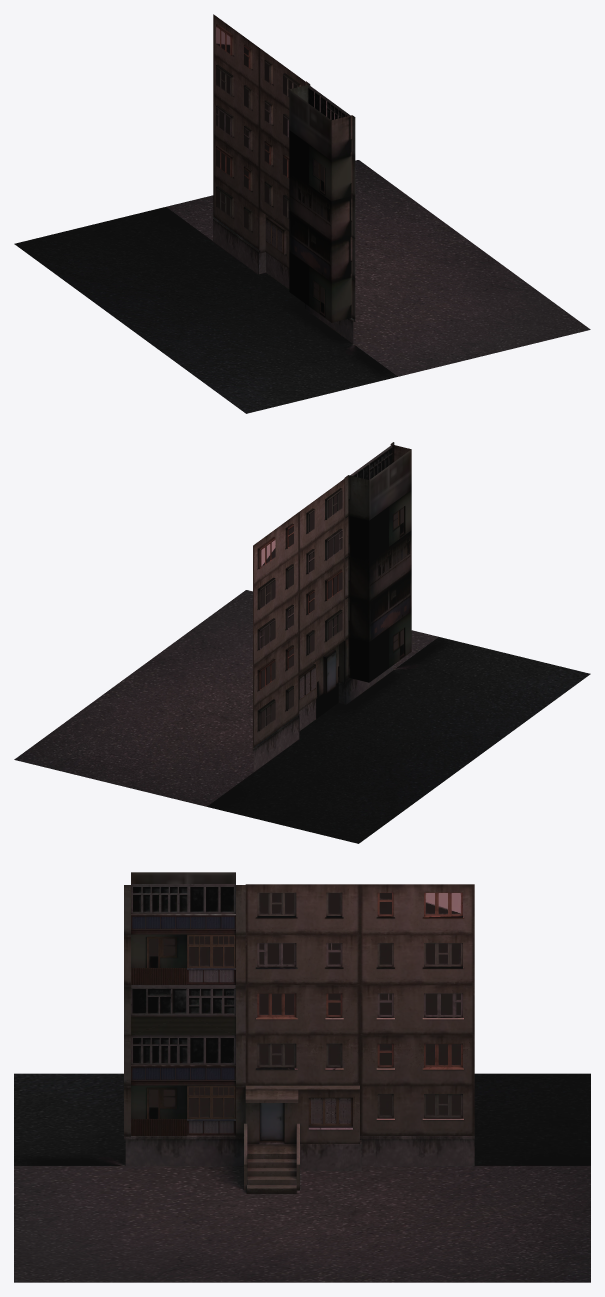
File: panelkaglb-optimized.glb
The picture shows the model from 3 angles, top to bottom: view 1: azimuth 30°, elevation 25°; view 2: azimuth 150°, elevation 25°; view 3: azimuth 270°, elevation 25°; orthographic projection. The views are drawn at different scales.
Visible parts, largest first — view 1: Plane, Box018_Entrance_02_0.001; view 2: Plane, Box018_Entrance_02_0.001; view 3: Box018_Entrance_02_0.001, Plane.
Boxes of the visible parts, x1,y1,x2,y2 form: Plane: [14, 160, 590, 413]; Box018_Entrance_02_0.001: [212, 14, 355, 343]; Plane: [14, 590, 590, 843]; Box018_Entrance_02_0.001: [252, 442, 411, 771]; Box018_Entrance_02_0.001: [124, 872, 474, 1193]; Plane: [14, 1073, 590, 1282].
Size of the model in its own units: 80.9 by 50.87 by 94.39.
Materials: 2 (2 with a texture image).
